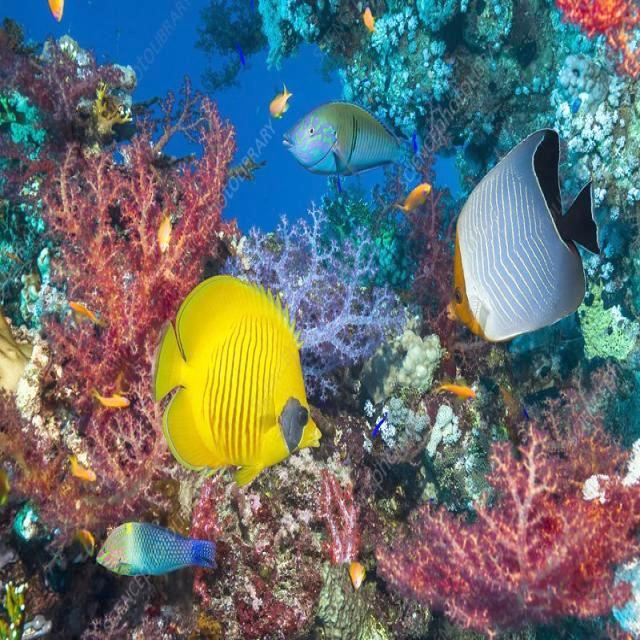ButterflyFish: (156, 268, 328, 489), (447, 130, 602, 358)
